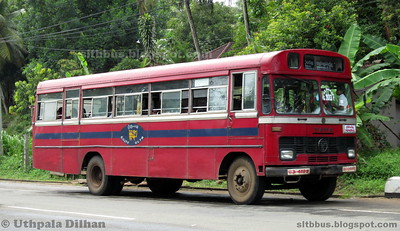bus: (31, 48, 358, 205)
